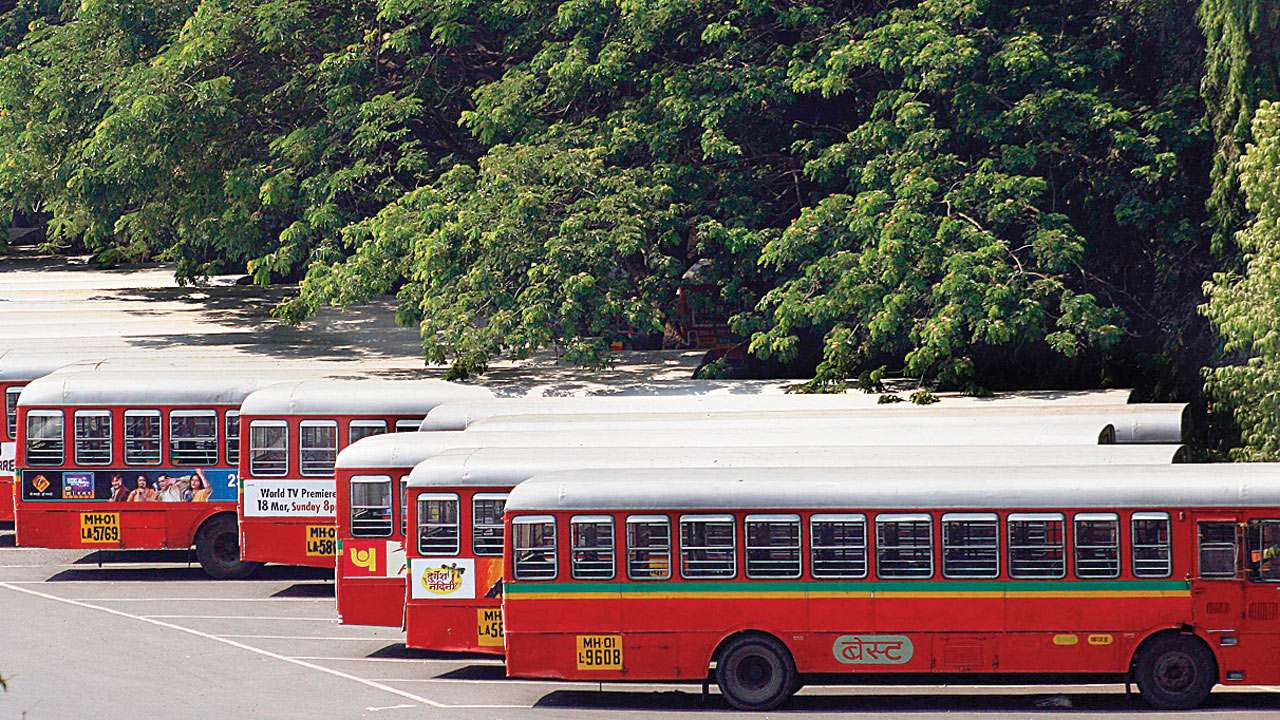bus: (503, 456, 1276, 720), (7, 370, 244, 572), (407, 459, 504, 658), (235, 382, 335, 572), (339, 443, 406, 627)
